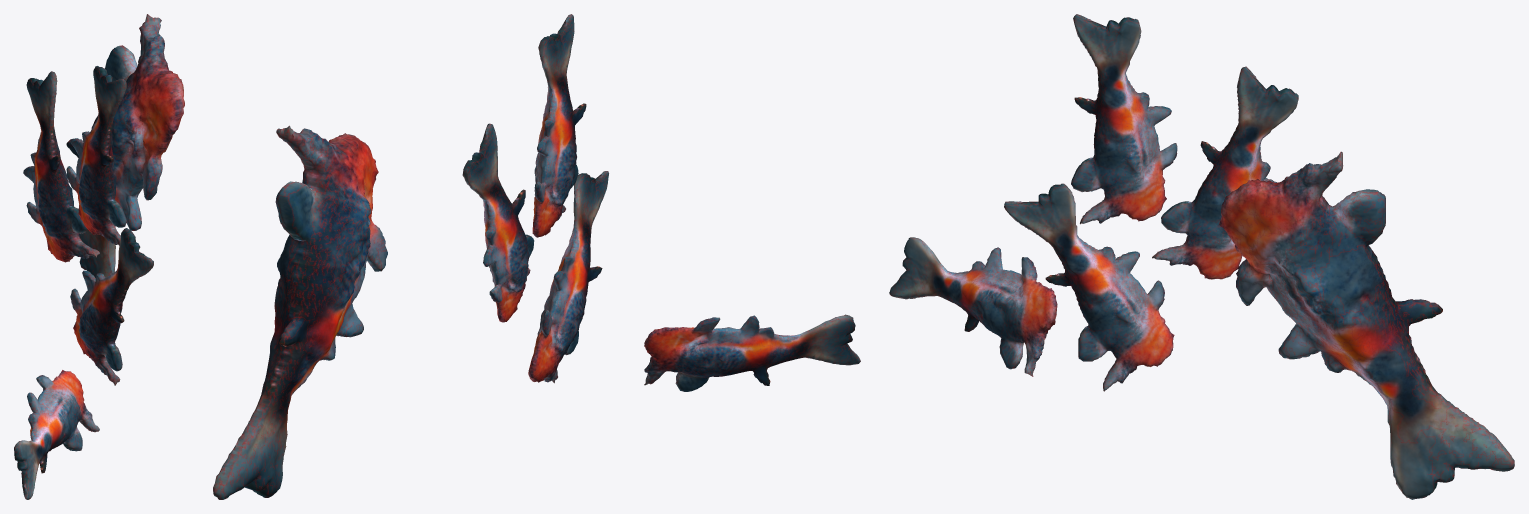
Rendered from fish_4.glb.
3 views of the same model, side by side, from view 1: azimuth 30°, elevation 25°; view 2: azimuth 150°, elevation 25°; view 3: azimuth 270°, elevation 25° (orthographic). The views are drawn at different scales.
Visible parts, largest first — view 1: model.005, model.002, model.003, model.001, model.004; view 2: model.005, model.004, model.001, model.003, model.002; view 3: model.005, model.001, model.003, model.002, model.004.
Part boxes in pixels (x1,y1,x2,y2): model.005: [66, 14, 184, 277]; model.002: [23, 71, 99, 262]; model.003: [66, 66, 126, 245]; model.001: [70, 228, 153, 385]; model.004: [14, 370, 99, 499]; model.005: [213, 125, 387, 499]; model.004: [644, 314, 860, 391]; model.001: [528, 171, 608, 383]; model.003: [532, 14, 586, 237]; model.002: [462, 123, 534, 322]; model.005: [1219, 151, 1514, 499]; model.001: [1004, 183, 1174, 391]; model.003: [1071, 14, 1177, 224]; model.002: [1152, 66, 1298, 279]; model.004: [889, 237, 1057, 376].
Bounding box in the file's own units: 0.8283 × 0.8401 × 1.15.
Materials: 5 (5 with a texture image).
